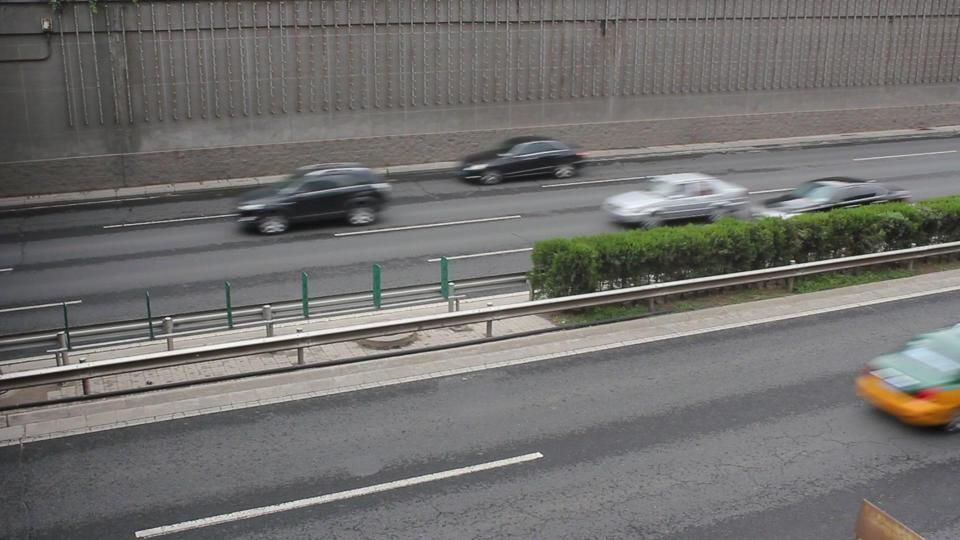car: (853, 320, 960, 431), (234, 163, 394, 236), (601, 173, 755, 231), (458, 139, 588, 186), (757, 178, 913, 217)
